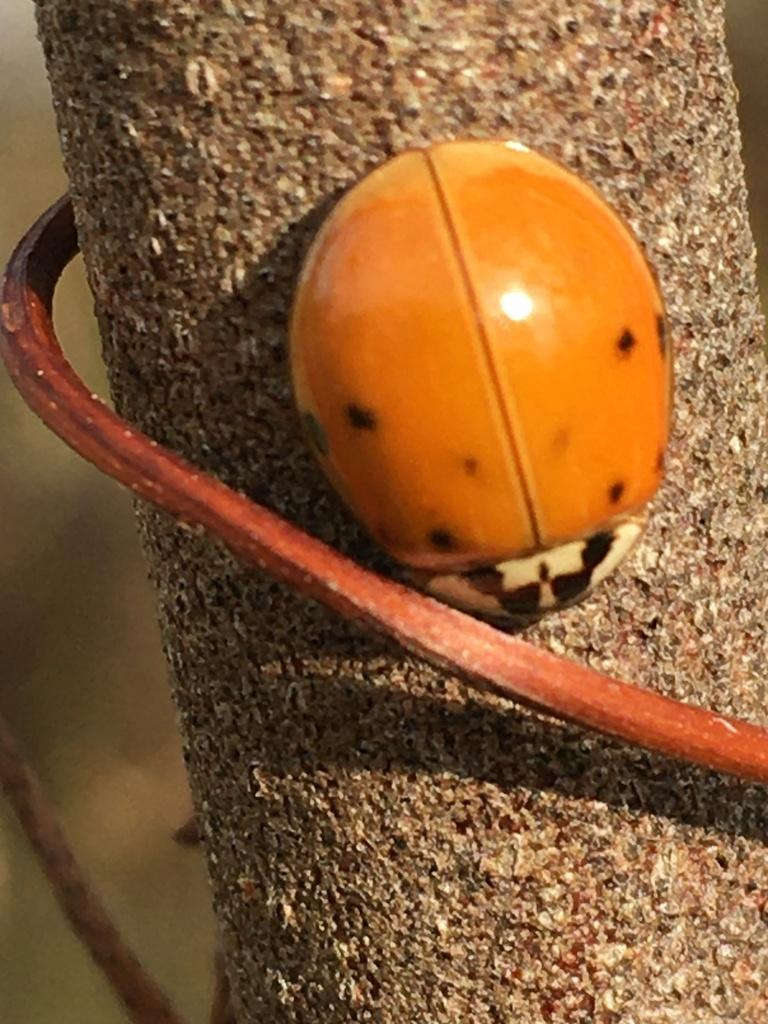ladybug: (284, 136, 679, 621)
